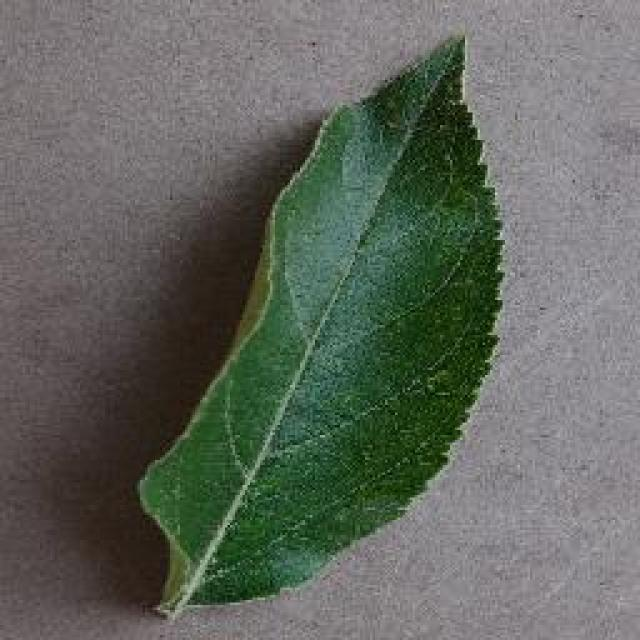apple healthy: (132, 30, 508, 620)
